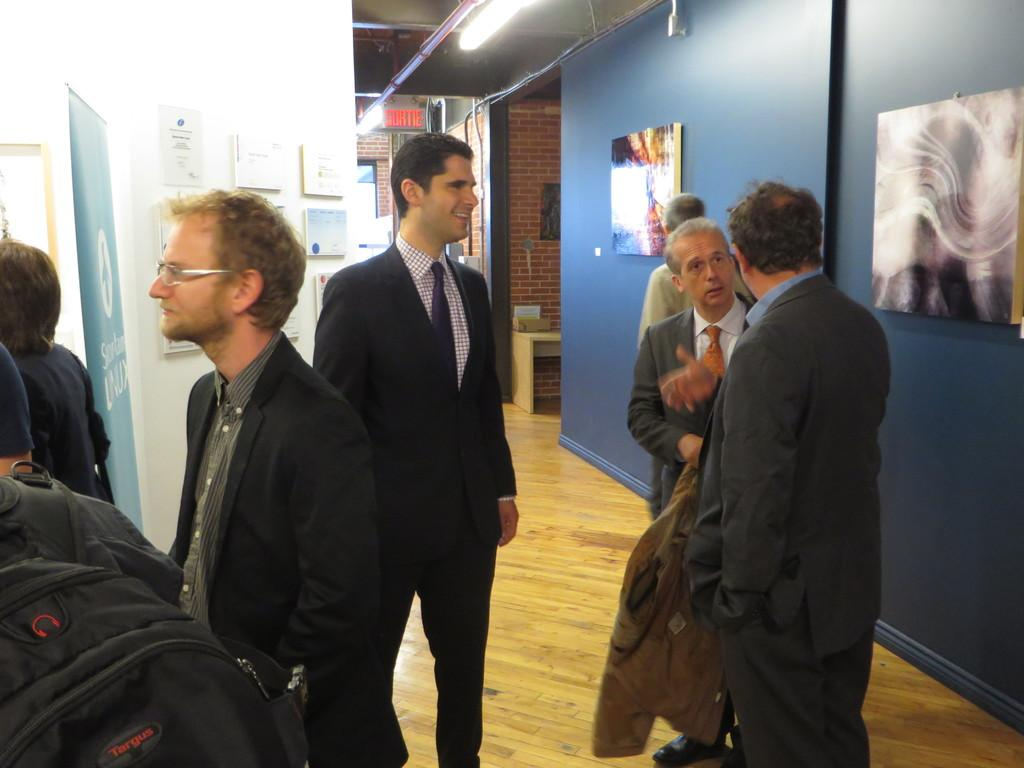Luggage-and-bags: (0, 501, 284, 753)
